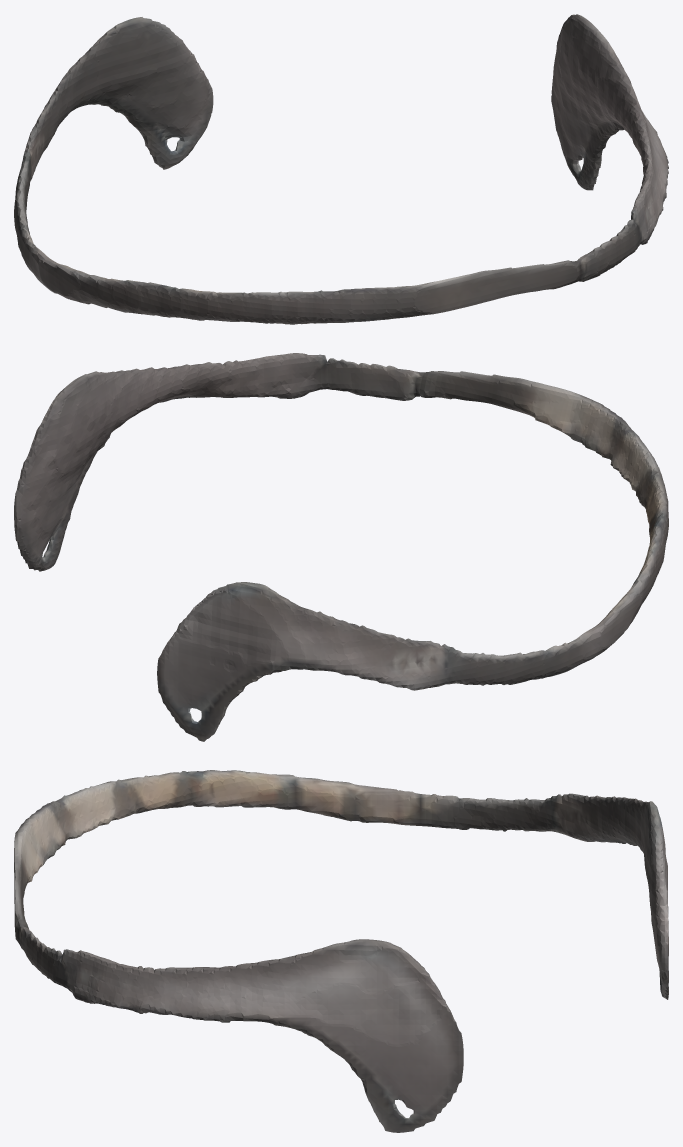
File: muse_2.glb
3 views of the same model, one above another, from view 1: azimuth 30°, elevation 25°; view 2: azimuth 150°, elevation 25°; view 3: azimuth 270°, elevation 25° (orthographic). The views are drawn at different scales.
Parts seen in each view (by area): view 1: world; view 2: world; view 3: world.
Boxes of the visible parts, x1,y1,x2,y2 form: world: (14,14,668,324); world: (14,353,668,741); world: (14,770,668,1132).
Bounding box in the file's own units: 1.98 × 0.6439 × 1.98.
